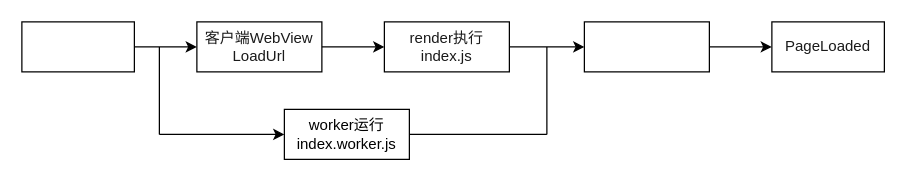
Image size: 906x181. Some labels were removed from this diagram. The shapes that lost their labels are listed below. From the top down, each one's centre as x and y in pixels, then its label:
At point (77, 46): "小程序资源包 加载".
At point (646, 46): "render与worker 通信、交互".
